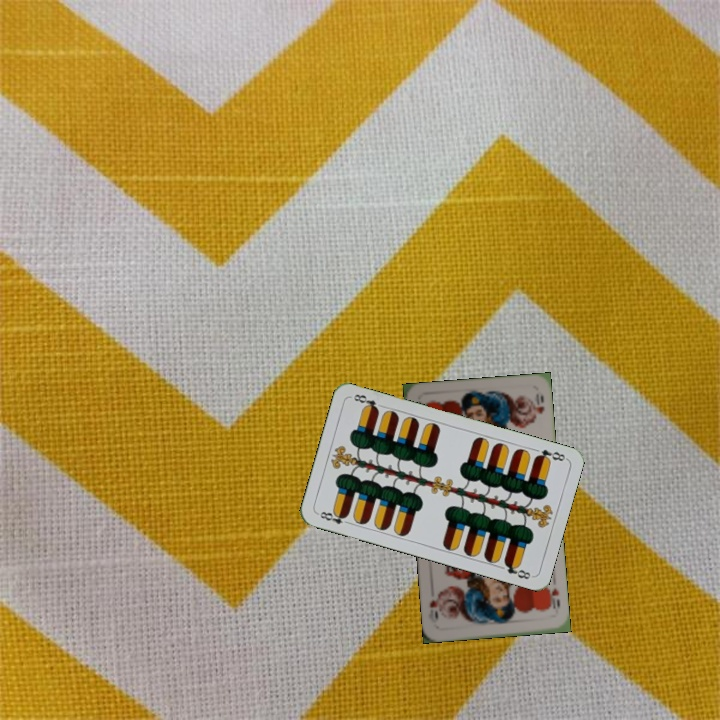E8: (314, 507, 353, 527), (531, 445, 569, 465)
HO: (543, 581, 562, 611)
